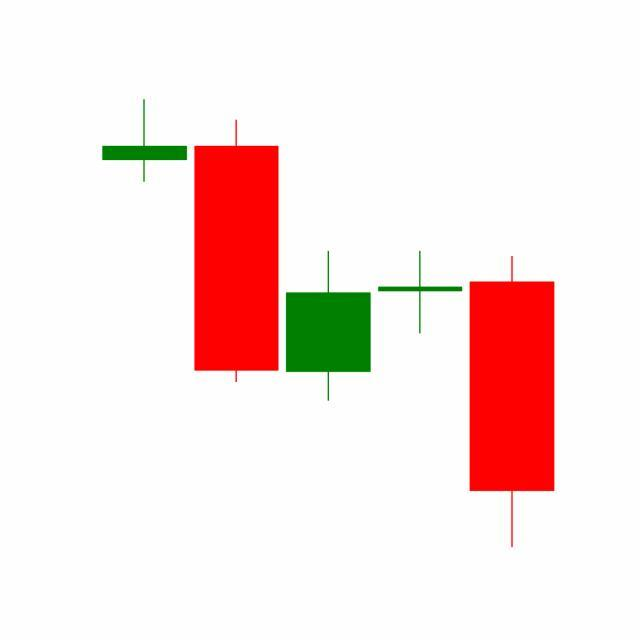Evening Star: (280, 247, 555, 548)
